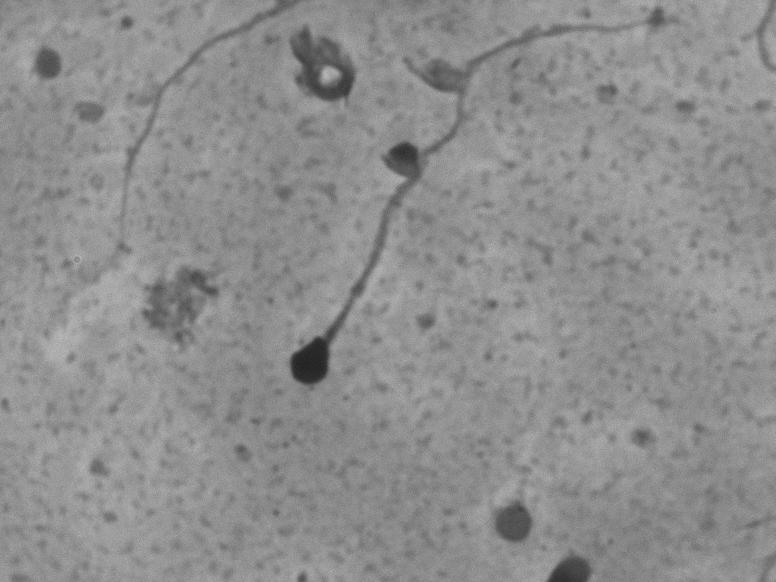Abnormal: (260, 4, 701, 409)
